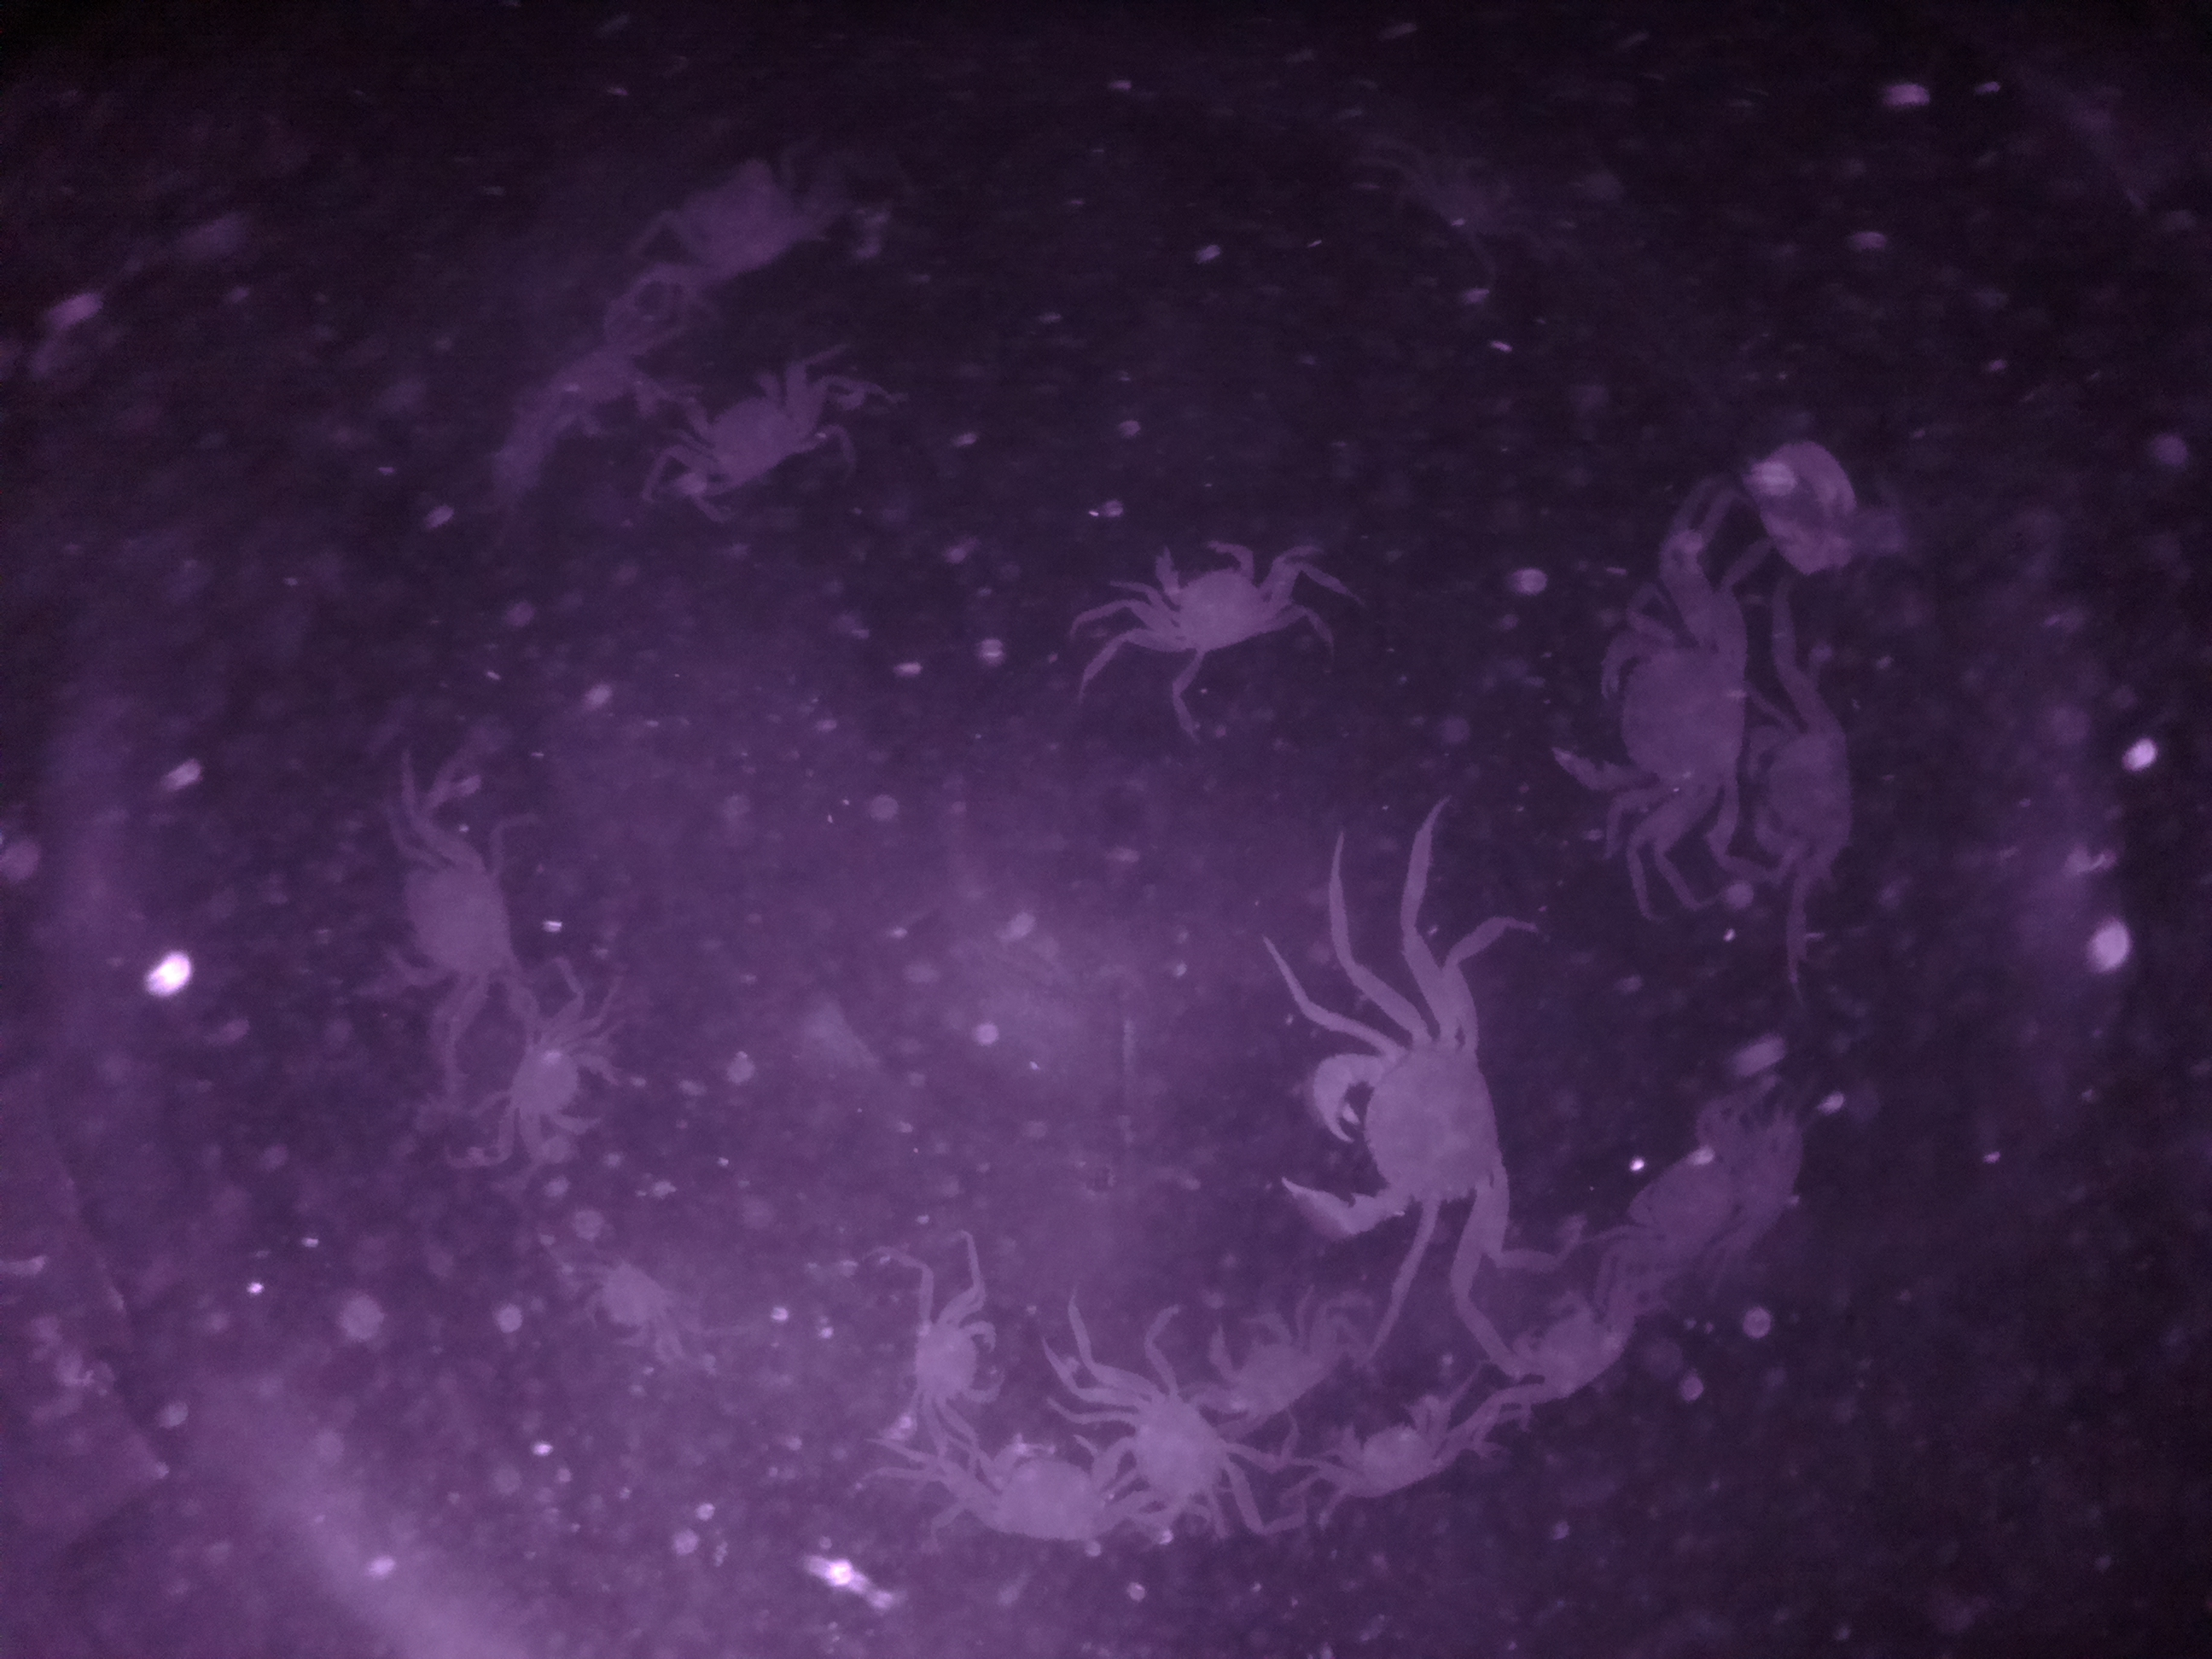Crab: (1273, 990, 1512, 1265), (1536, 580, 1766, 819), (371, 831, 528, 1026), (1109, 1368, 1268, 1534), (1143, 516, 1289, 687), (1505, 1276, 1648, 1439), (669, 350, 812, 498), (486, 1018, 632, 1159), (942, 1436, 1122, 1549), (1320, 1398, 1475, 1509), (892, 1300, 1014, 1427)
